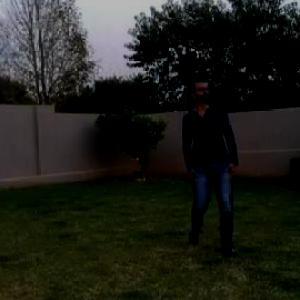follow: (177, 67, 243, 260)
